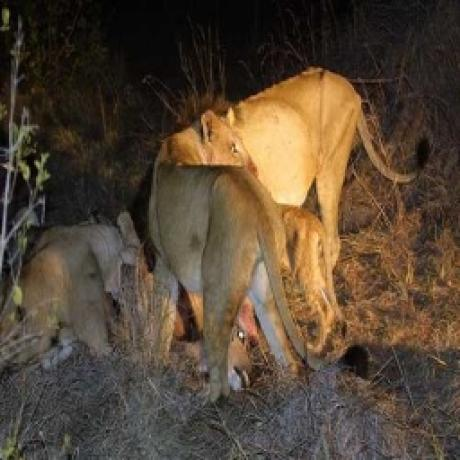Lion: (146, 101, 327, 394)
